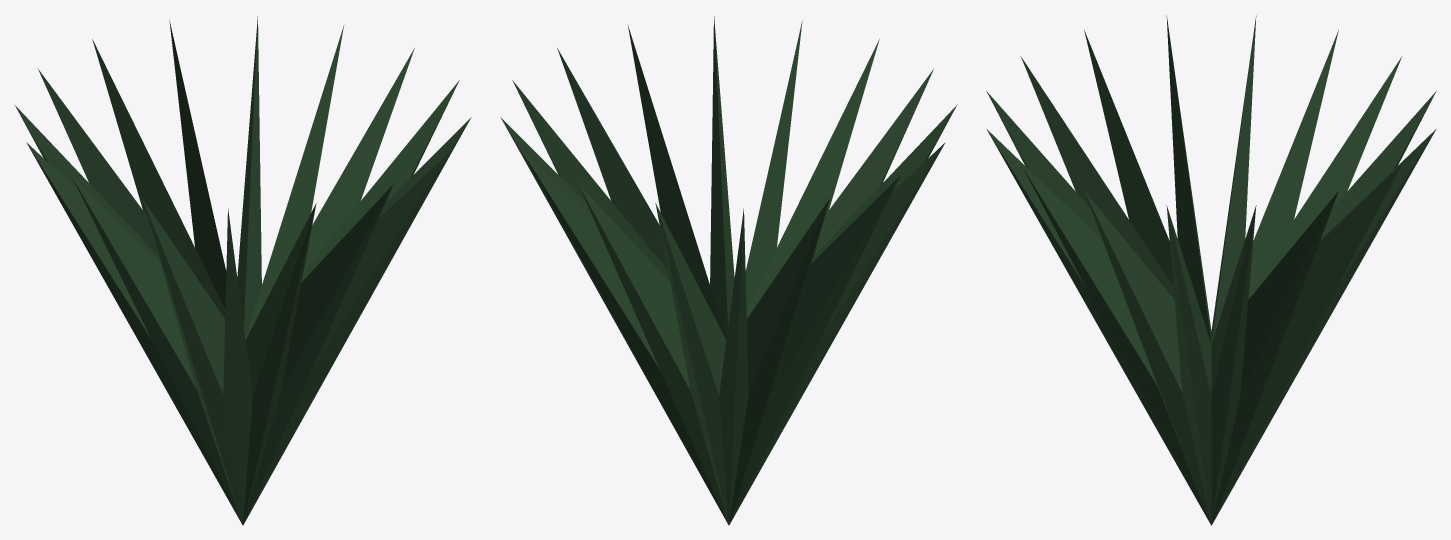
The model's file is grass.gltf.
The picture shows the model from 3 angles, left to right: view 1: azimuth 30°, elevation 25°; view 2: azimuth 150°, elevation 25°; view 3: azimuth 270°, elevation 25°; orthographic projection.
Parts seen in each view (by area): view 1: Grass; view 2: Grass; view 3: Grass.
Boxes of the visible parts, x1,y1,x2,y2 form: Grass: [14, 16, 471, 525]; Grass: [500, 16, 957, 525]; Grass: [986, 15, 1436, 525].
Bounding box in the file's own units: 1.96 × 2 × 1.96.
